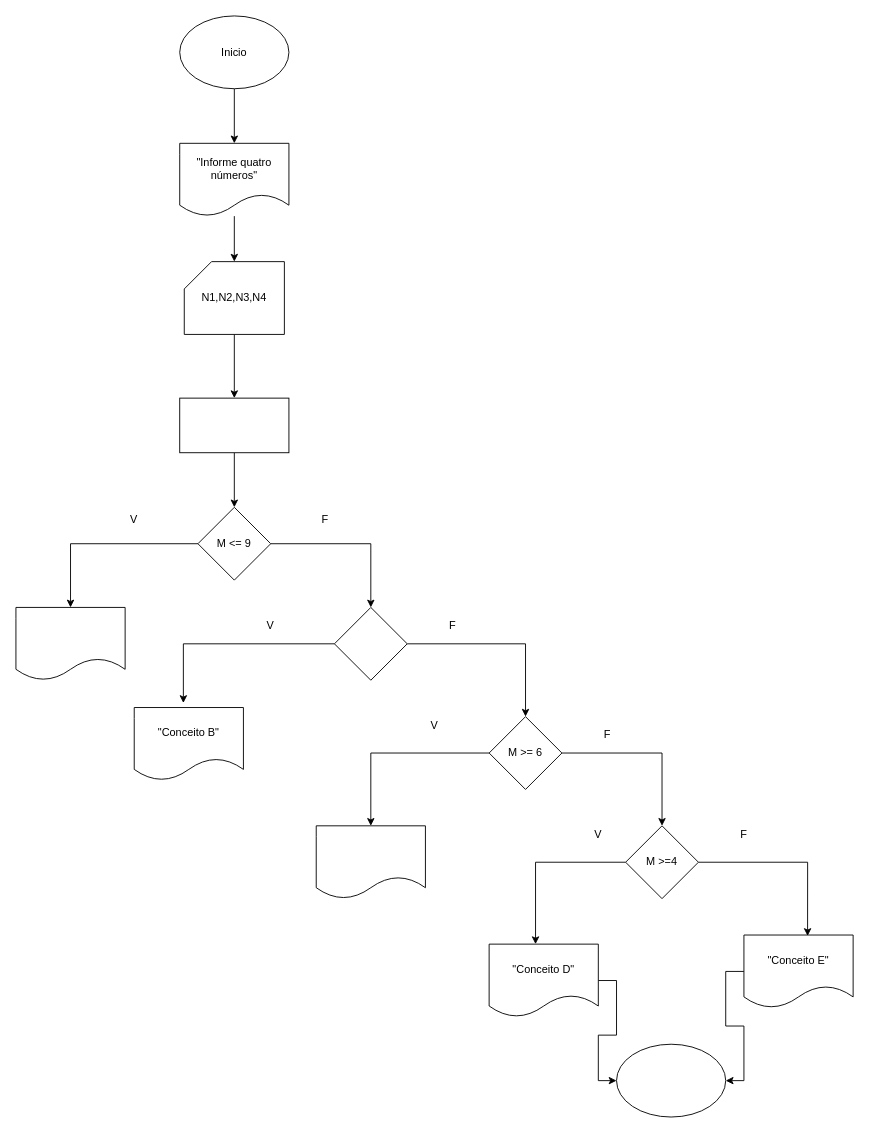
This 869x1133 diagram has some shape labels left out. The shapes that lost their labels are listed below. From the top down, each one's centre as x and y in pixels, then its label:
(234,425): M <- N1+ N2+N3+N4 /4
(70,643): "Conceito A"
(370,643): M >=7.5
(370,862): "Conceito C"
(671,1080): Fim
